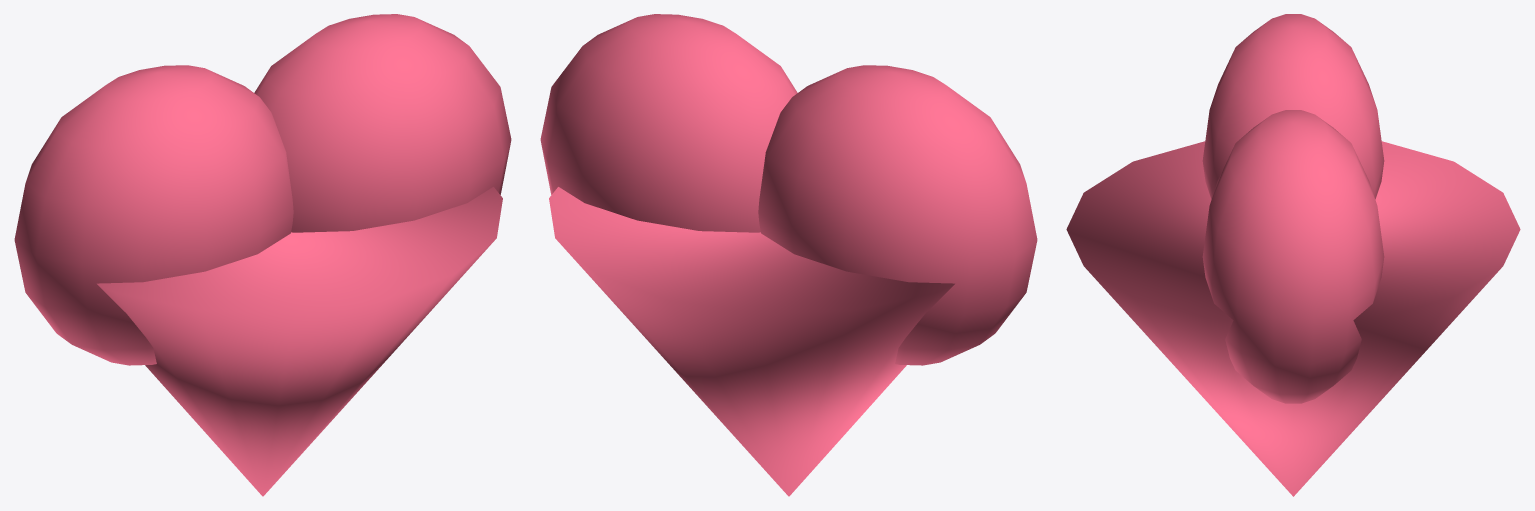
Rendered from heart.glb.
3 views of the same model, side by side, from view 1: azimuth 30°, elevation 25°; view 2: azimuth 150°, elevation 25°; view 3: azimuth 270°, elevation 25° (orthographic). The views are drawn at different scales.
Visible parts, largest first — view 1: Lobe0, Point, Lobe1; view 2: Lobe0, Point, Lobe1; view 3: Point, Lobe1, Lobe0.
Part boxes in pixels (x1=…): Lobe0: x1=14, y1=65, x2=293, y2=365; Point: x1=97, y1=187, x2=502, y2=496; Lobe1: x1=254, y1=14, x2=511, y2=232; Lobe0: x1=758, y1=65, x2=1037, y2=365; Point: x1=549, y1=187, x2=954, y2=496; Lobe1: x1=540, y1=14, x2=797, y2=232; Point: x1=1066, y1=141, x2=1520, y2=496; Lobe1: x1=1202, y1=110, x2=1384, y2=403; Lobe0: x1=1202, y1=14, x2=1384, y2=199.
Bounding box in the file's own units: 0.4535 × 0.41 × 0.4.
